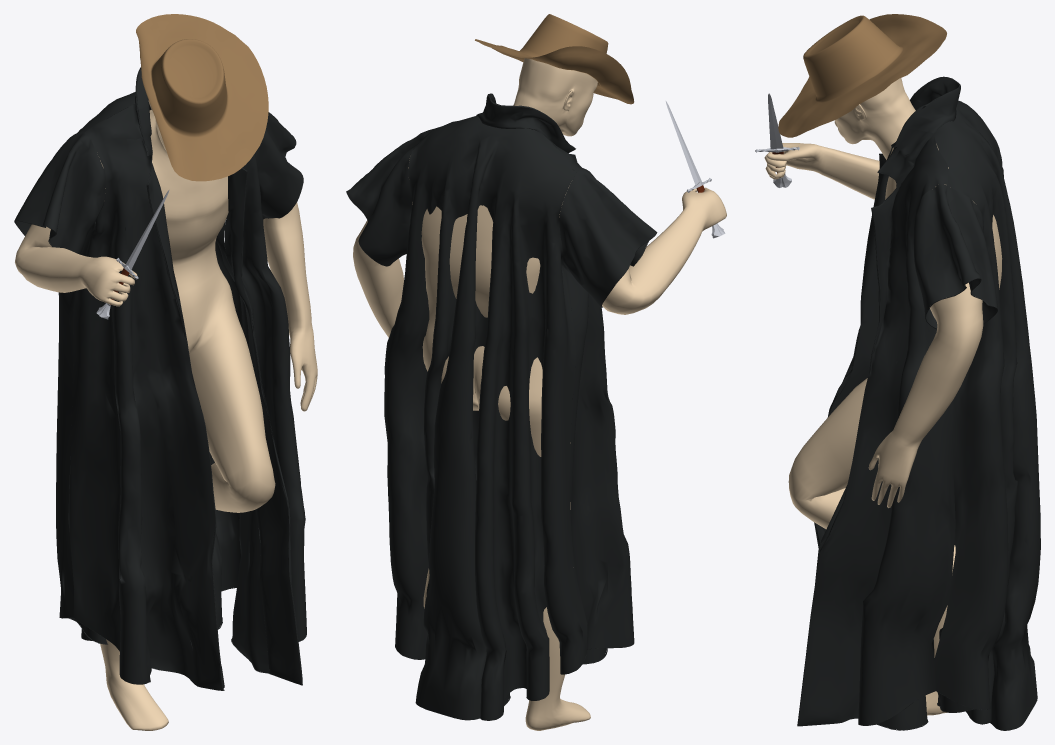
The model's file is TormodFinale.fbx.
3 renders of one model, left to right at view 1: azimuth 30°, elevation 25°; view 2: azimuth 150°, elevation 25°; view 3: azimuth 270°, elevation 25°, orthographic. The views are drawn at different scales.
Visible parts, largest first — view 1: zimarra, Circle, Cylinder, Object001; view 2: zimarra, Circle, Cylinder, Object001; view 3: zimarra, Circle, Cylinder, Object001.
Part boxes in pixels (x1=…): zimarra: x1=14, y1=67, x2=306, y2=690; Circle: x1=15, y1=100, x2=317, y2=730; Cylinder: x1=136, y1=14, x2=268, y2=181; Object001: x1=96, y1=190, x2=169, y2=319; zimarra: x1=346, y1=93, x2=657, y2=720; Circle: x1=353, y1=58, x2=726, y2=730; Cylinder: x1=475, y1=14, x2=634, y2=104; Object001: x1=665, y1=101, x2=725, y2=238; zimarra: x1=797, y1=76, x2=1040, y2=730; Circle: x1=764, y1=78, x2=1002, y2=715; Cylinder: x1=778, y1=14, x2=946, y2=137; Object001: x1=755, y1=93, x2=799, y2=187.
Size of the model in its own units: 86.57 by 194 by 70.65.
